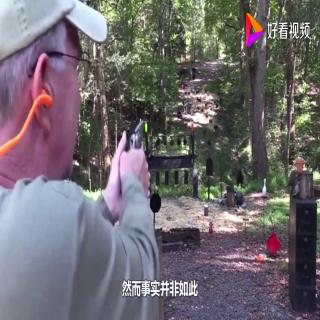gun: (112, 111, 160, 205)
